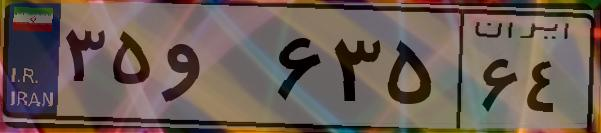3: (330, 28, 385, 110), (57, 26, 110, 100)
4: (525, 38, 570, 115)
5: (385, 28, 445, 110), (110, 28, 158, 98)
6: (270, 28, 330, 110), (475, 38, 525, 113)
و: (158, 20, 270, 120)
